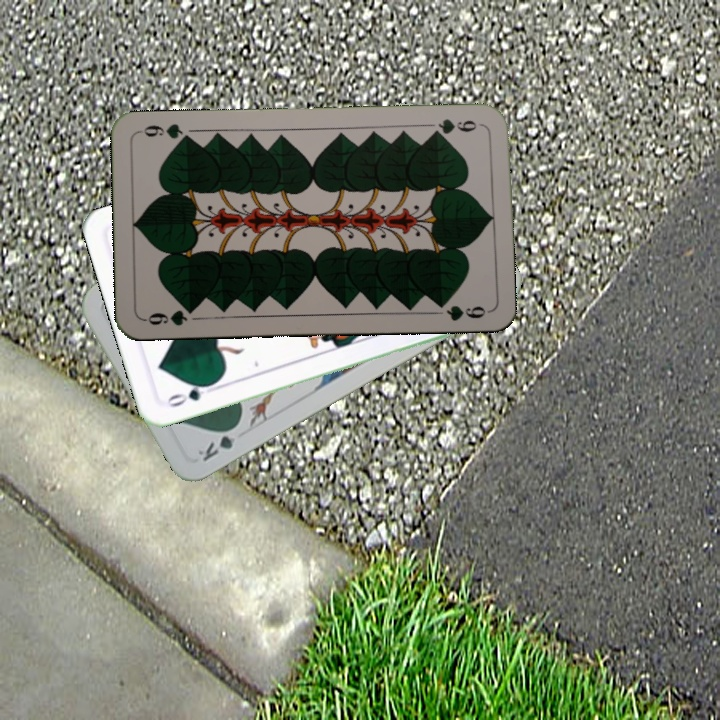G9: (140, 303, 199, 328), (426, 115, 479, 138)
GK: (193, 420, 242, 465)
GO: (163, 379, 217, 410)
